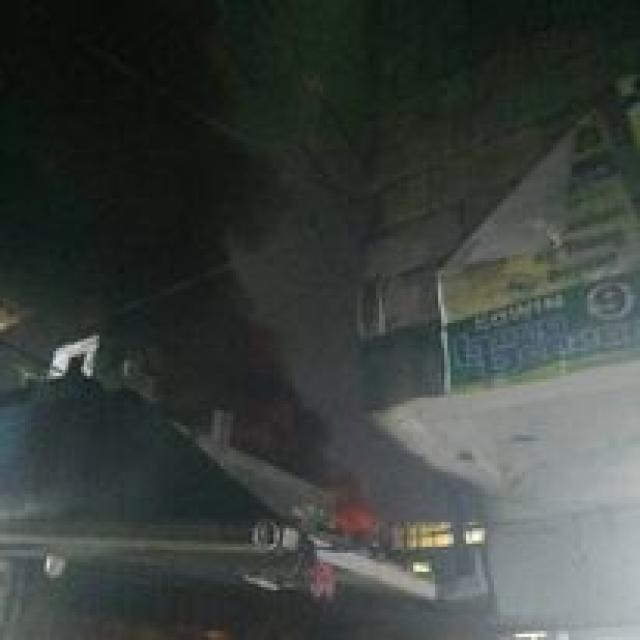Smoke: (0, 0, 283, 295), (162, 302, 322, 444)
